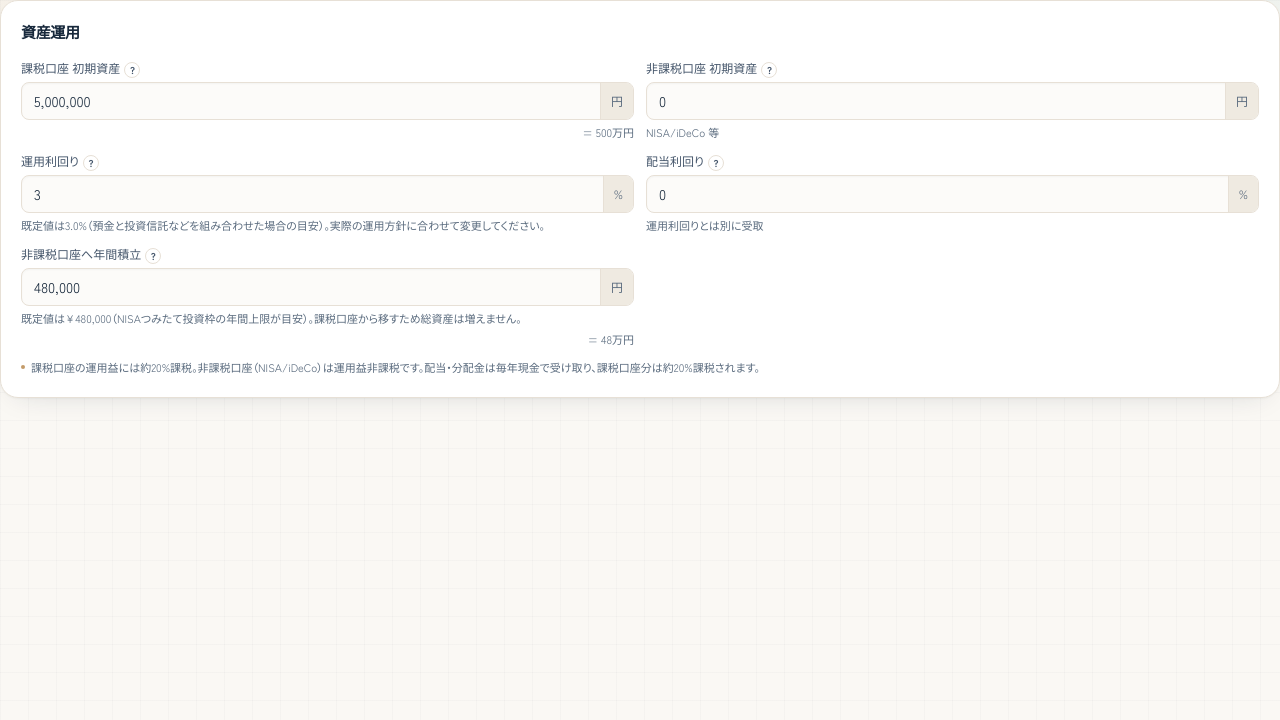
Test case: 専門用語の解説ボタンの配置 › 資産運用: 非課税口座の「?」を押すと NISA/iDeCo の解説が開く
Click the button "?" next to "非課税口座 初期資産" at coordinates (769, 70), box [761,62,777,78]
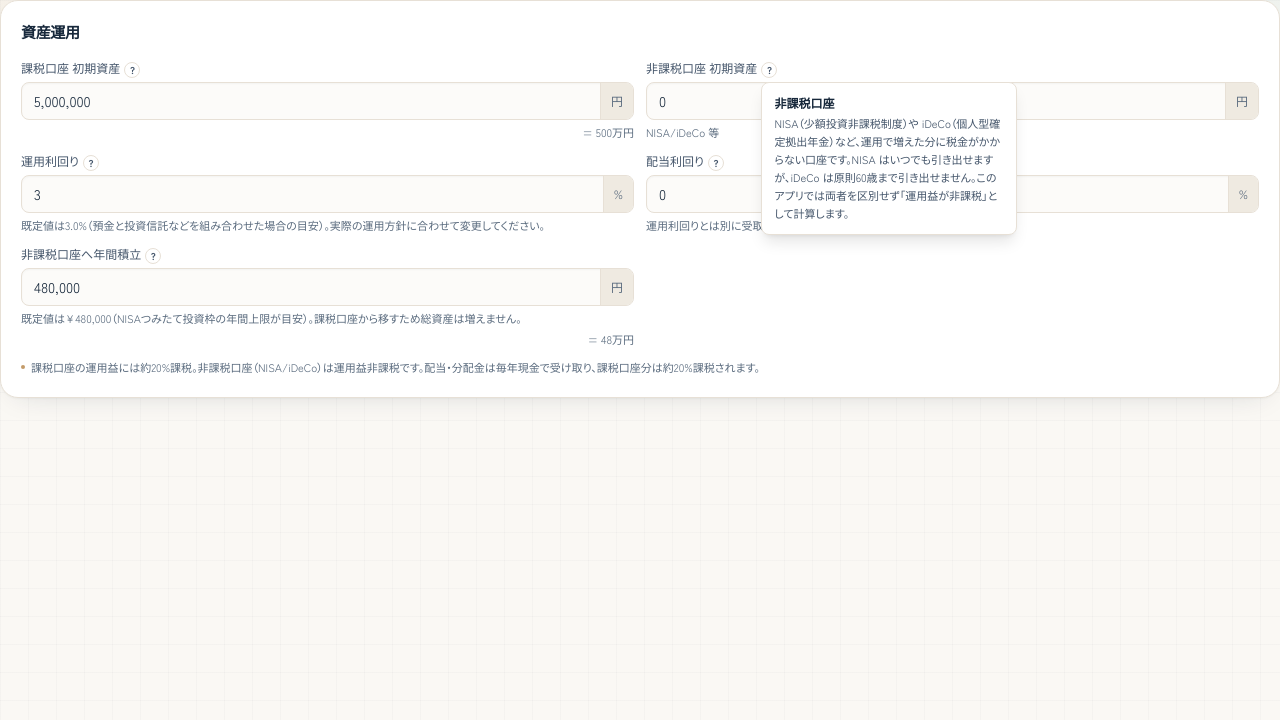
Expected: the element that starts with "非課税口座" shows "NISA", [774,115,1000,220]
Expected: the element that starts with "非課税口座" shows "iDeCo", [774,115,1000,220]
